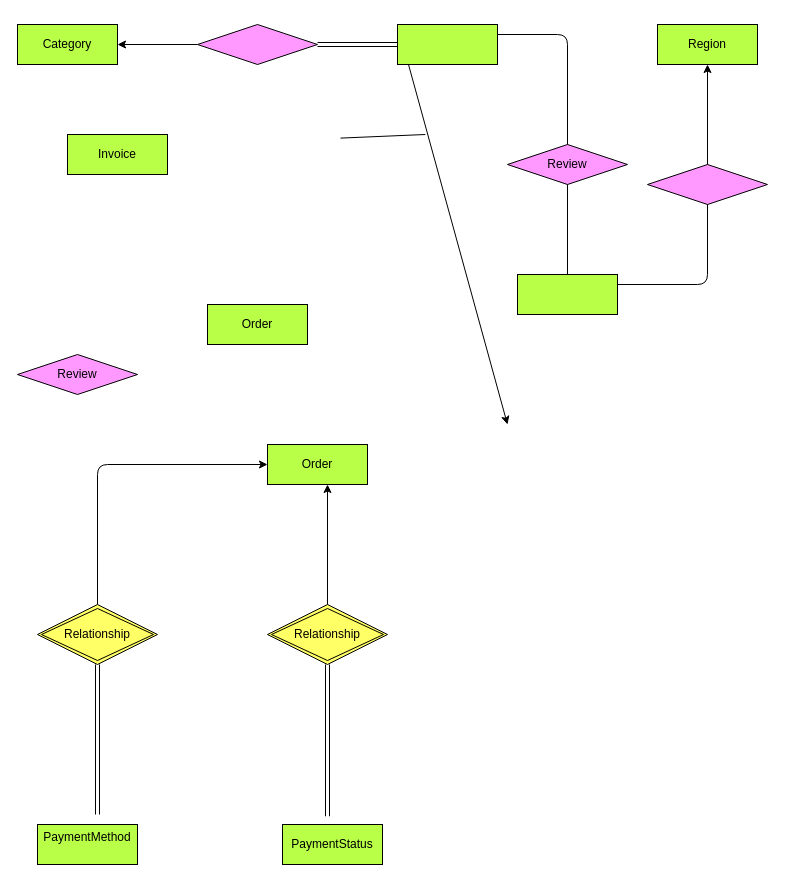
Image size: 785x882. Some labels were removed from this diagram. The shapes that lost their labels are listed below. From the top down, each one's centre as x and y in pixels, then its label:
At pixel 257 44: "Assigned".
At pixel 447 44: "Product".
At pixel 707 184: "Reside".
At pixel 567 294: "Customer".
